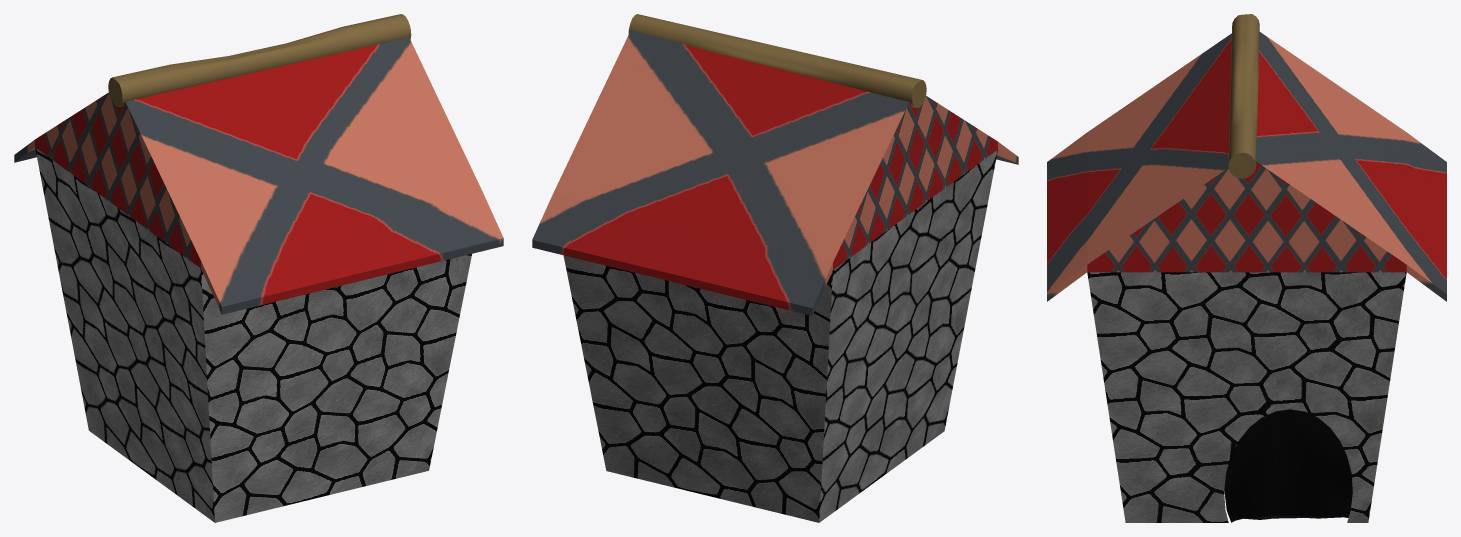
The model's file is WaxWorld_SmallHouse.fbx.
3 renders of one model, left to right at view 1: azimuth 30°, elevation 25°; view 2: azimuth 150°, elevation 25°; view 3: azimuth 270°, elevation 25°, orthographic. The views are drawn at different scales.
Visible parts, largest first — view 1: Box001, Object001, Object003, Cylinder001; view 2: Box001, Object001, Object003, Cylinder001; view 3: Box001, Object001, Object002, Ellipse002, Cylinder001.
Part boxes in pixels (x1=…): Box001: x1=35, y1=147, x2=471, y2=522; Object001: x1=14, y1=37, x2=503, y2=314; Object003: x1=35, y1=92, x2=200, y2=268; Cylinder001: x1=108, y1=14, x2=411, y2=106; Box001: x1=563, y1=150, x2=997, y2=522; Object001: x1=532, y1=30, x2=1018, y2=315; Object003: x1=833, y1=96, x2=997, y2=269; Cylinder001: x1=628, y1=14, x2=926, y2=108; Box001: x1=1087, y1=272, x2=1406, y2=522; Object001: x1=1047, y1=32, x2=1446, y2=301; Object002: x1=1087, y1=161, x2=1406, y2=272; Ellipse002: x1=1224, y1=409, x2=1352, y2=522; Cylinder001: x1=1228, y1=14, x2=1259, y2=178.
Size of the model in its own units: 144 by 194 by 180.
4 materials, 3 textured.
